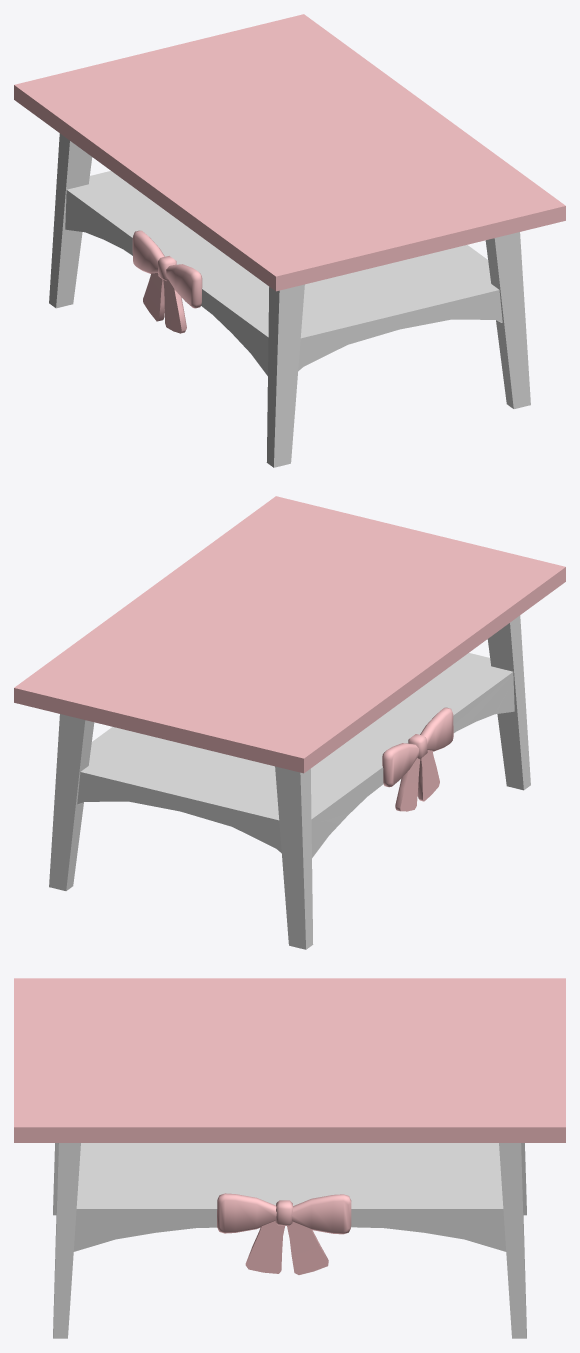
The model's file is table_K.fbx.
3 views of the same model, one above another, from view 1: azimuth 30°, elevation 25°; view 2: azimuth 150°, elevation 25°; view 3: azimuth 270°, elevation 25° (orthographic). The views are drawn at different scales.
Visible parts, largest first — view 1: polySurface6, polySurface1, polySurface9.001; view 2: polySurface6, polySurface1, polySurface9.001; view 3: polySurface6, polySurface1, polySurface9.001.
Boxes of the visible parts, x1,y1,x2,y2 form: polySurface6: (14, 14, 565, 291); polySurface1: (49, 133, 530, 467); polySurface9.001: (132, 230, 202, 333); polySurface6: (14, 496, 565, 773); polySurface1: (49, 615, 530, 949); polySurface9.001: (382, 707, 453, 811); polySurface6: (14, 978, 565, 1142); polySurface1: (53, 1143, 526, 1338); polySurface9.001: (217, 1193, 351, 1274).
Bounding box in the file's own units: 50.08 × 34.46 × 78.36.
